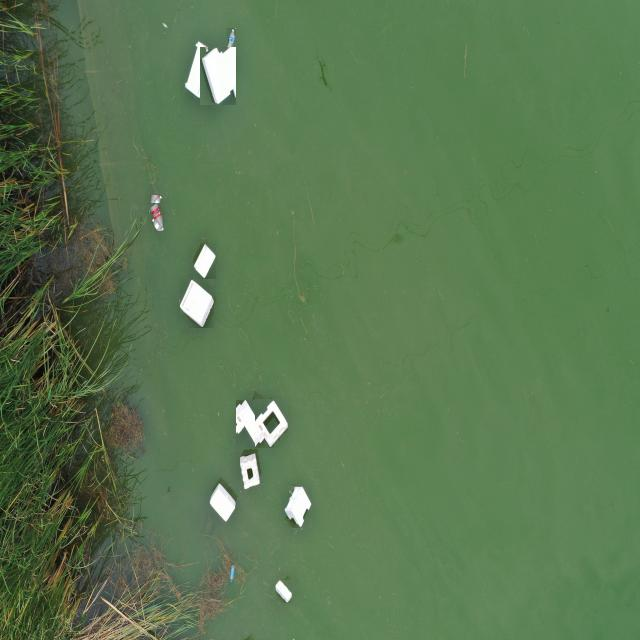Plastic Bottle: (150, 203, 164, 231), (148, 195, 162, 216), (226, 28, 236, 53), (229, 564, 235, 583)
Plastic Waste: (200, 47, 236, 105), (180, 279, 214, 328), (255, 399, 288, 448), (184, 40, 208, 100), (236, 400, 264, 446), (284, 486, 312, 528), (209, 482, 236, 522), (193, 243, 216, 279), (240, 453, 260, 490), (275, 580, 293, 603)
